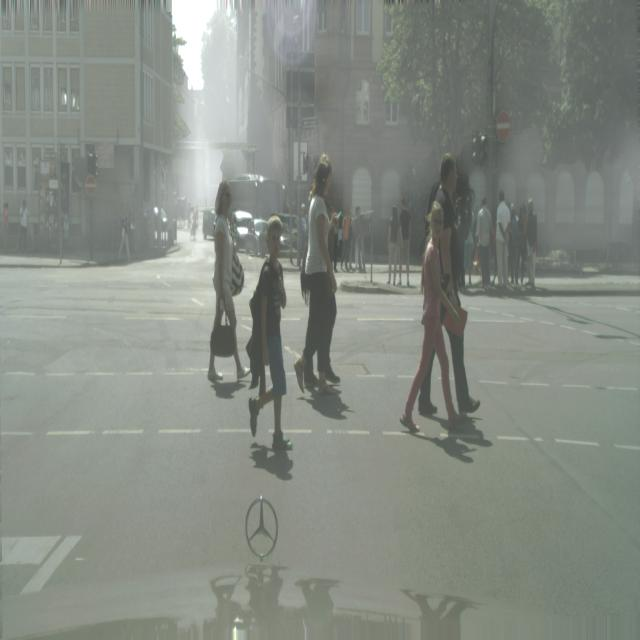bus: (399, 205, 465, 435), (428, 154, 481, 414), (294, 153, 341, 396), (247, 218, 291, 449), (208, 179, 248, 383), (475, 195, 493, 293), (495, 189, 511, 289), (396, 196, 412, 287), (515, 203, 528, 288), (526, 200, 538, 291), (387, 204, 400, 286), (117, 211, 132, 264), (19, 199, 30, 254)
person: (230, 210, 256, 255), (202, 208, 217, 240)
